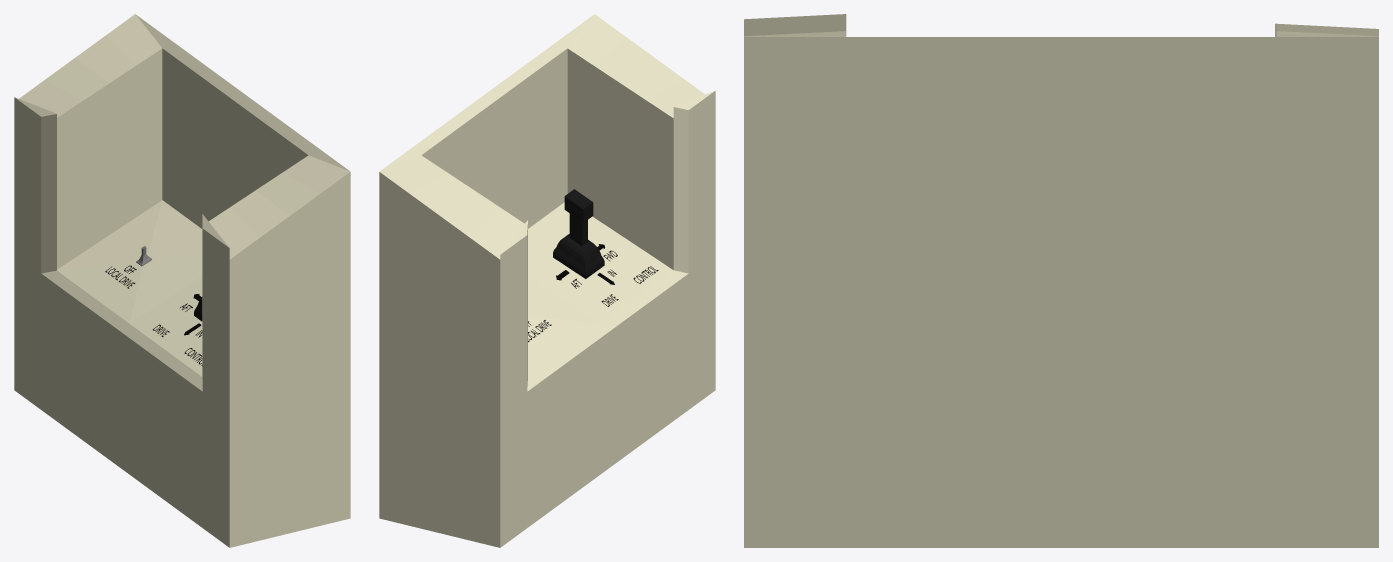
The model's file is BOT.fbx.
3 views of the same model, side by side, from view 1: azimuth 30°, elevation 25°; view 2: azimuth 150°, elevation 25°; view 3: azimuth 270°, elevation 25° (orthographic). The views are drawn at different scales.
Parts seen in each view (by area): view 1: Cube.015; view 2: Cube.015, Cube.020; view 3: Cube.015.
Boxes of the visible parts, x1,y1,x2,y2 form: Cube.015: [14, 14, 350, 547]; Cube.015: [379, 14, 715, 547]; Cube.020: [553, 189, 604, 278]; Cube.015: [744, 14, 1378, 547].
Size of the model in its own units: 173 by 475 by 535.
